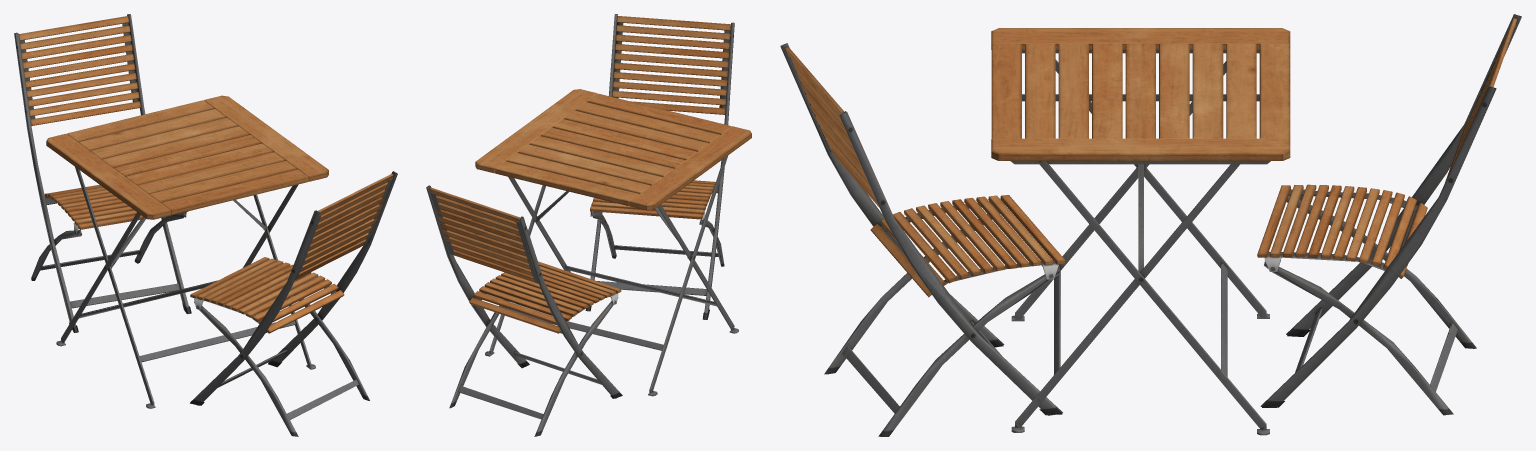
Rendered from outdoor_table_chair_set_01_lod2.glb.
3 renders of one model, left to right at view 1: azimuth 30°, elevation 25°; view 2: azimuth 150°, elevation 25°; view 3: azimuth 270°, elevation 25°, orthographic. The views are drawn at different scales.
Visible parts, largest first — view 1: outdoor_table_chair_set_01_table, outdoor_table_chair_set_01_chair_01, outdoor_table_chair_set_01_chair_02; view 2: outdoor_table_chair_set_01_table, outdoor_table_chair_set_01_chair_02, outdoor_table_chair_set_01_chair_01; view 3: outdoor_table_chair_set_01_table, outdoor_table_chair_set_01_chair_01, outdoor_table_chair_set_01_chair_02.
Boxes of the visible parts, <box> form: outdoor_table_chair_set_01_table: <box>46,95,328,408</box>; outdoor_table_chair_set_01_chair_01: <box>190,171,397,436</box>; outdoor_table_chair_set_01_chair_02: <box>14,14,191,332</box>; outdoor_table_chair_set_01_table: <box>475,89,751,396</box>; outdoor_table_chair_set_01_chair_02: <box>426,185,622,436</box>; outdoor_table_chair_set_01_chair_01: <box>585,14,734,319</box>; outdoor_table_chair_set_01_table: <box>991,28,1290,435</box>; outdoor_table_chair_set_01_chair_01: <box>780,43,1065,436</box>; outdoor_table_chair_set_01_chair_02: <box>1257,14,1521,415</box>.
Bounding box in the file's own units: 0.7417 × 0.8557 × 1.72.
Materials: 2 (2 with a texture image).
